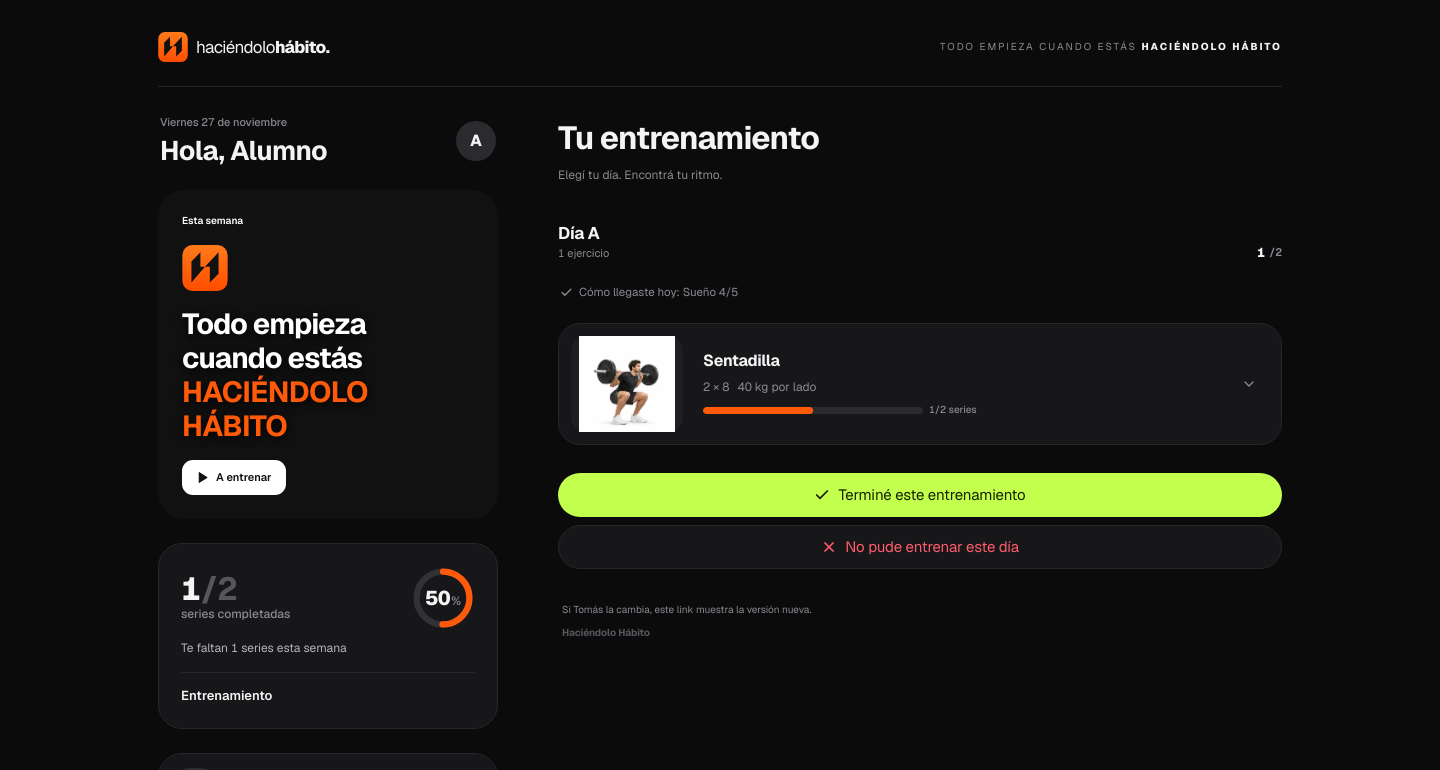
Scenario: registro del alumno en la rutina por link › peso total o por lado (feedback nov19, tanda 3) › muestra lo indicado por lado y cambia el modo de lo ya anotado
Later steps or results of the test are not shown.
Click the button with class "hhr-ex-head" at (627, 384), box [559, 324, 1281, 444]
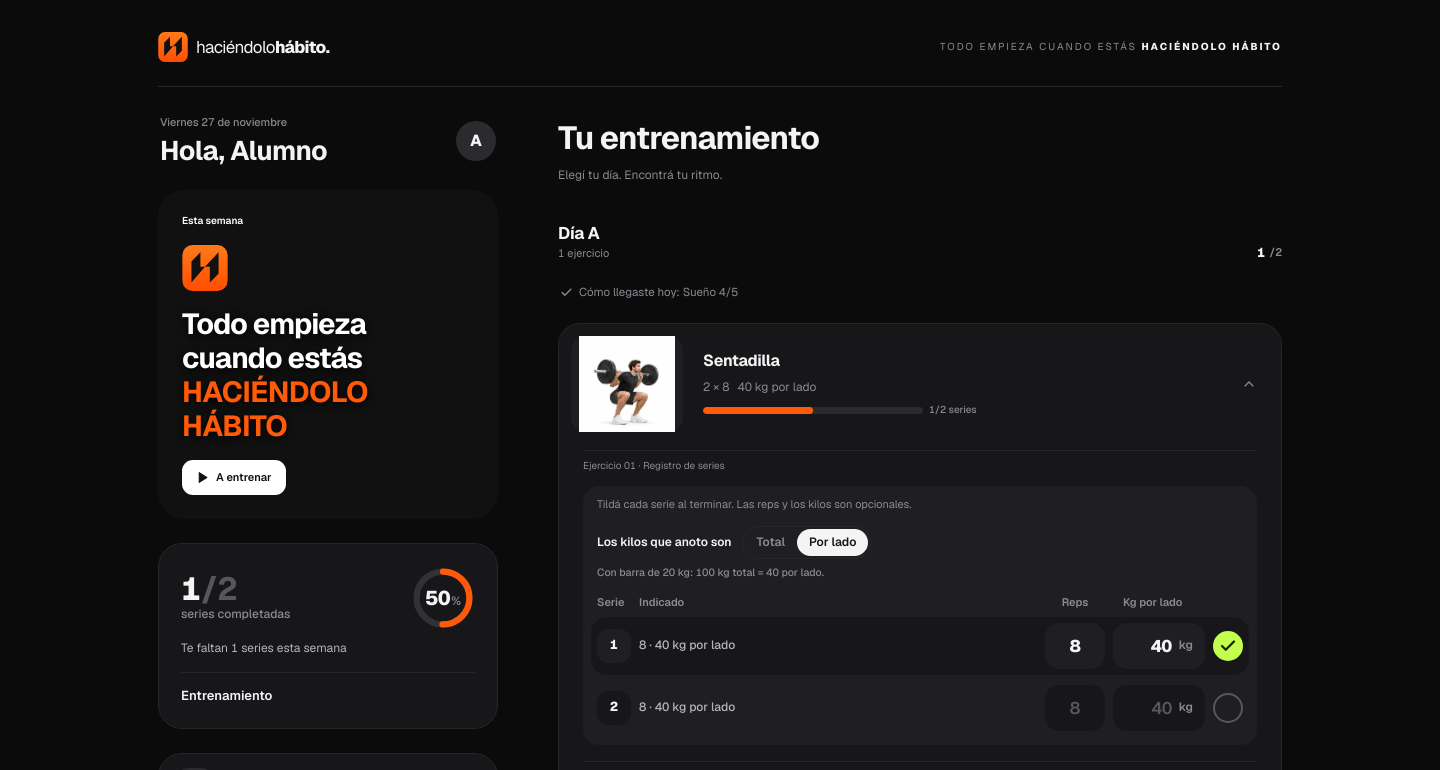
Expected: the 1st text with class "hhr-settarget" shows "40 kg por lado", [639, 637, 735, 653]
Expected: the element with class "hhr-sets-head" shows "Kg por lado", [1123, 595, 1182, 609]
Expected: the radio button labelled "Por lado" is checked, [797, 529, 868, 556]
